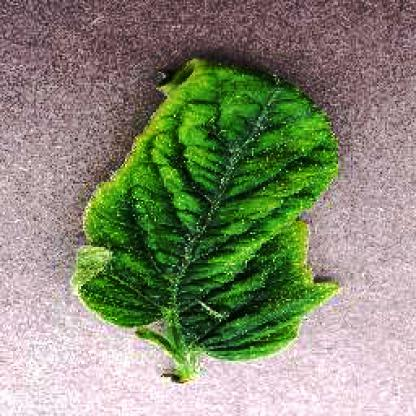Virus: (68, 49, 343, 384)
